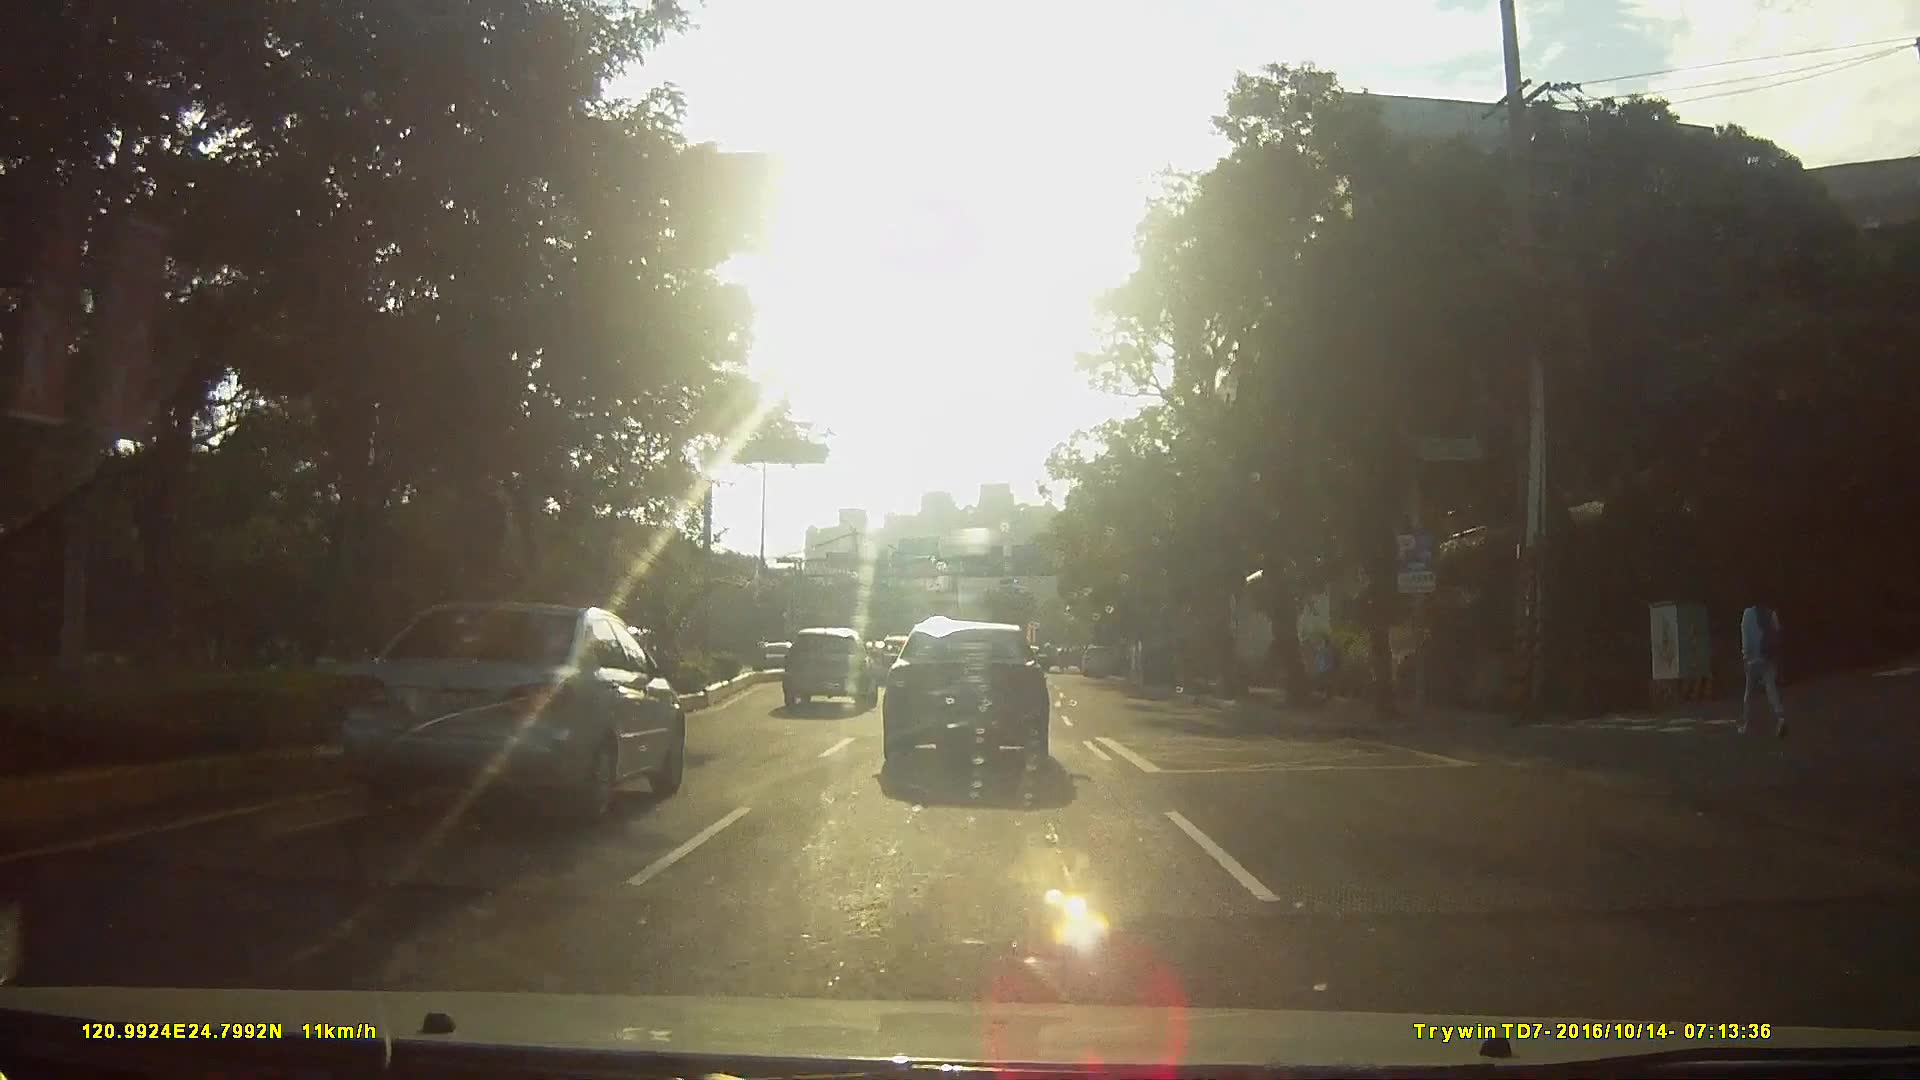pedestrian: (1733, 574, 1797, 741)
vehicle: (345, 600, 685, 817), (871, 618, 1063, 778), (778, 622, 878, 707), (738, 636, 784, 670), (1076, 640, 1112, 674)
